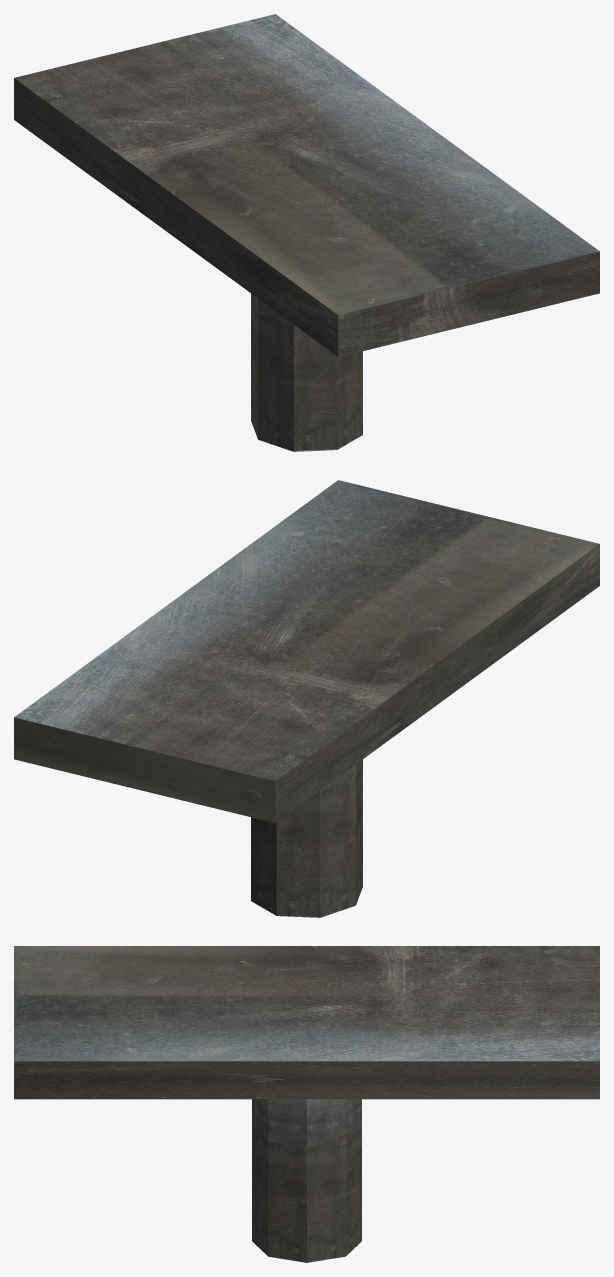
File: Mesa_Comedor.fbx
3 views of the same model, one above another, from view 1: azimuth 30°, elevation 25°; view 2: azimuth 150°, elevation 25°; view 3: azimuth 270°, elevation 25° (orthographic). The views are drawn at different scales.
Visible parts, largest first — view 1: mesa; view 2: mesa; view 3: mesa.
Part boxes in pixels (x1=…): mesa: x1=14, y1=14, x2=599, y2=451; mesa: x1=14, y1=480, x2=599, y2=917; mesa: x1=14, y1=946, x2=599, y2=1262.
Size of the model in its own units: 325 by 312 by 697.
